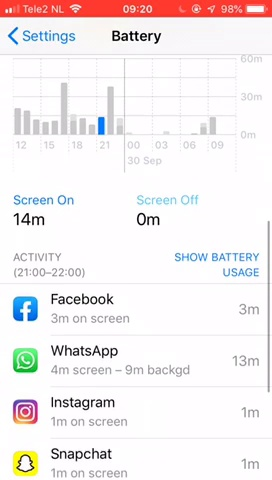activity: (10, 247, 112, 279)
app: (10, 289, 263, 327), (12, 339, 265, 377), (12, 393, 265, 431), (13, 442, 266, 480)
